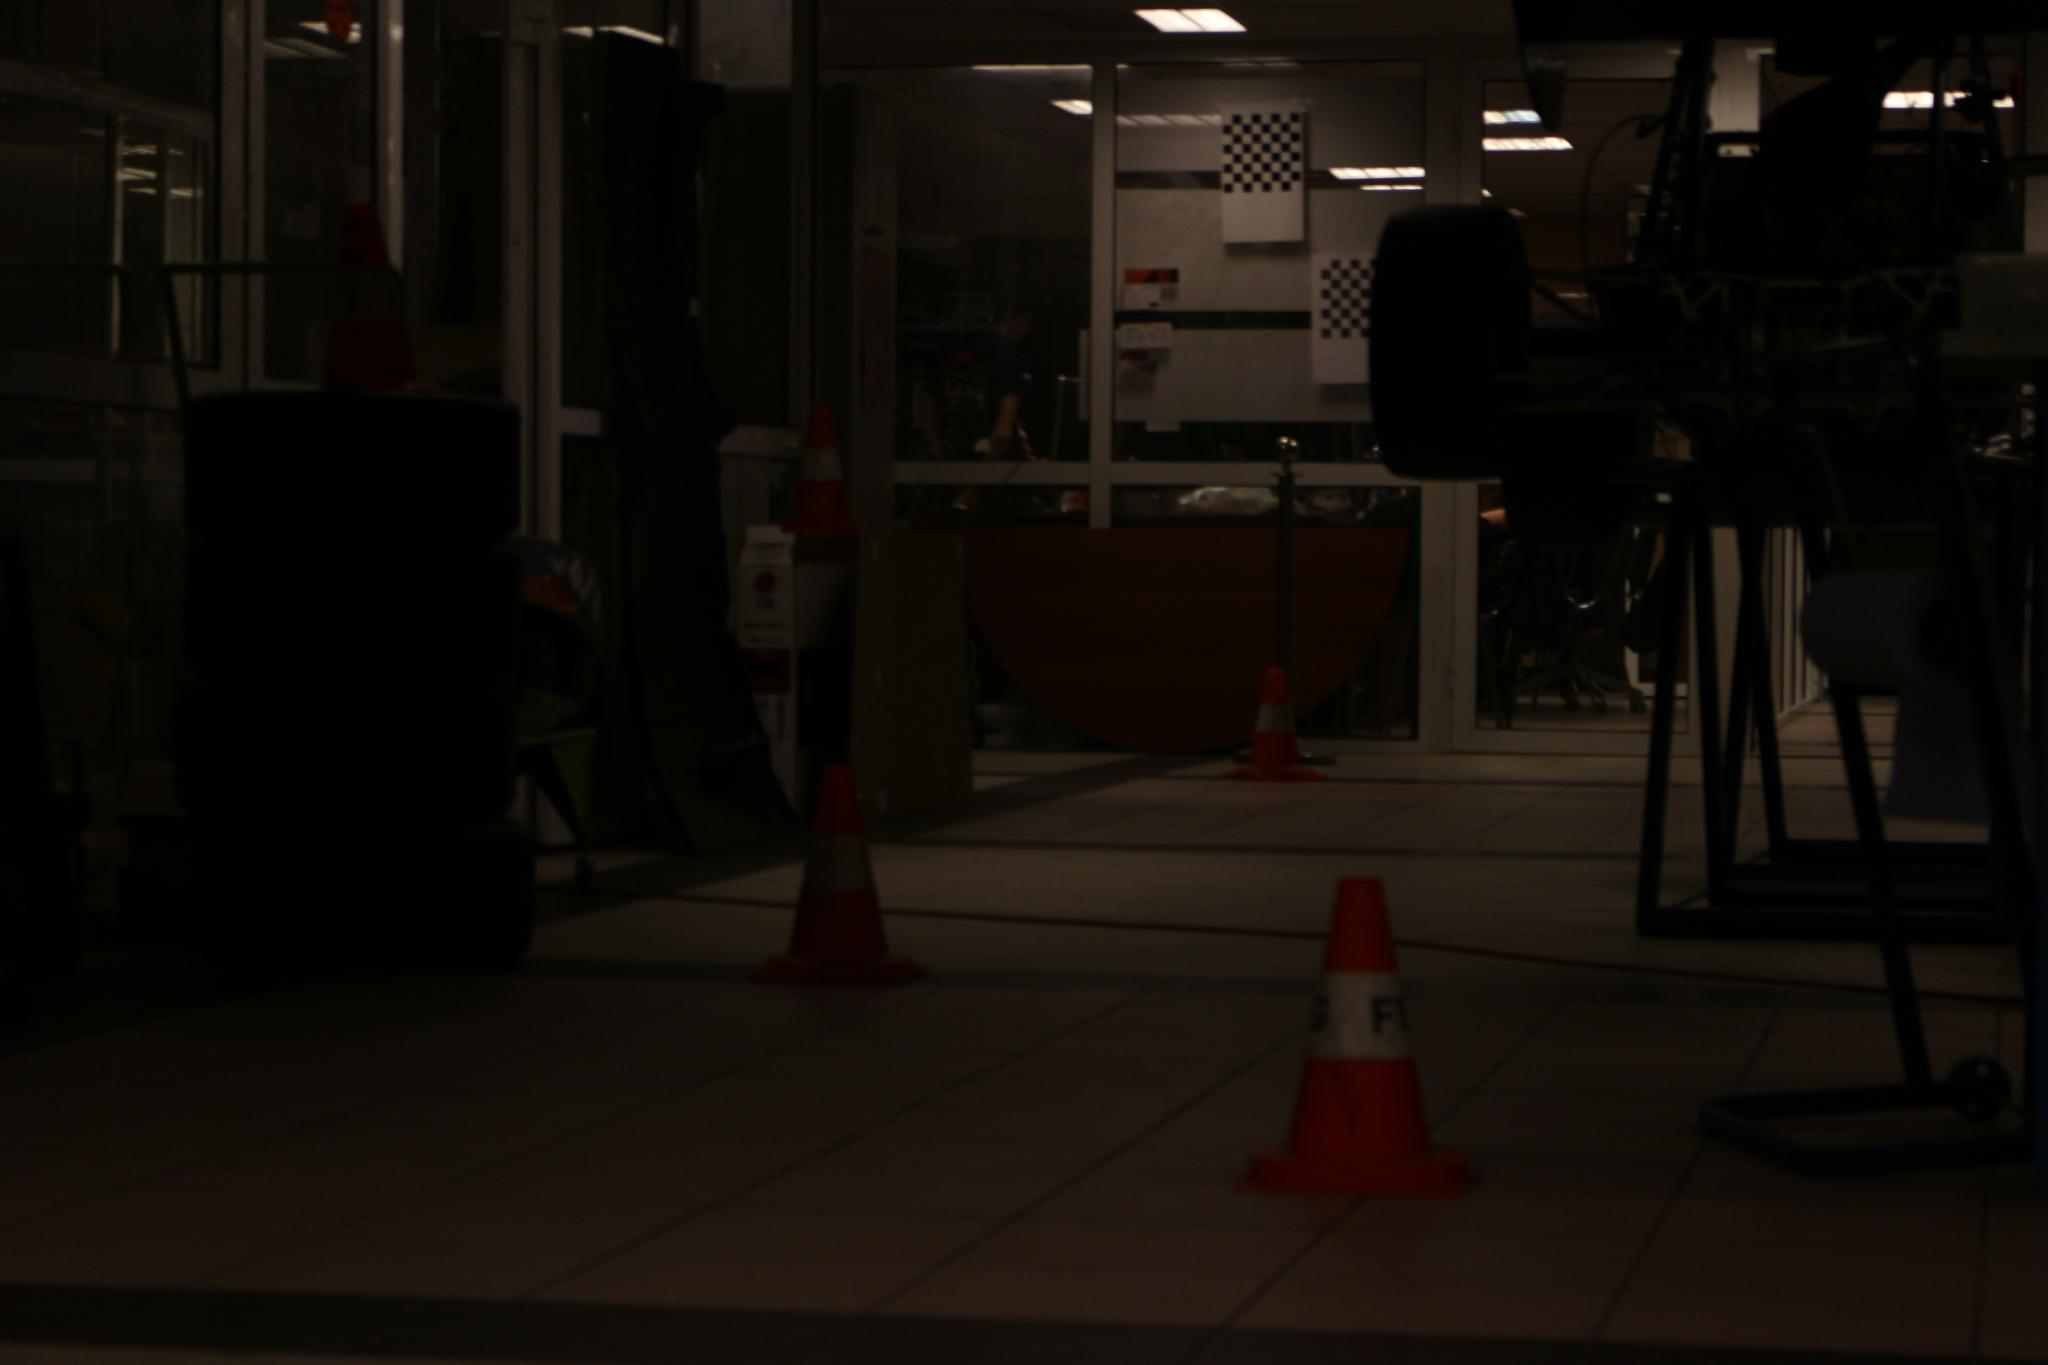Orange_Cone: (1239, 858, 1488, 1211), (770, 753, 932, 1009), (778, 388, 868, 571), (1224, 663, 1332, 791)
